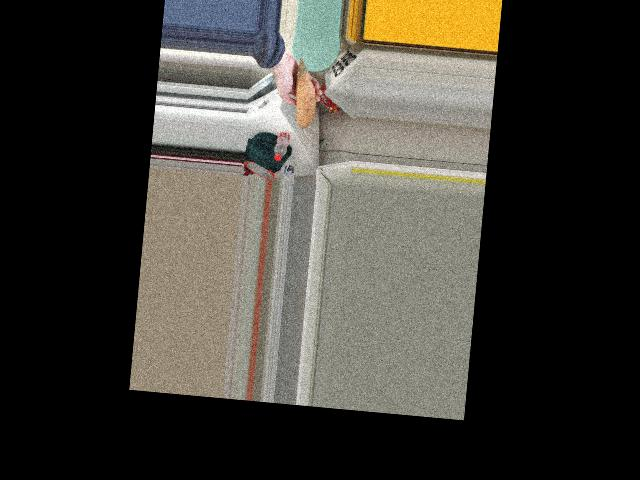sweet_potato: (292, 67, 320, 128)
